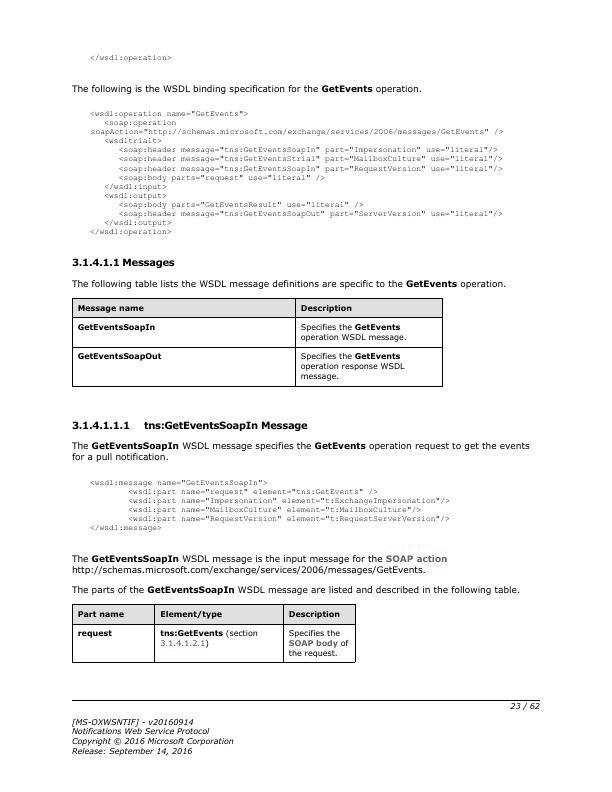table: (68, 295, 444, 389), (71, 604, 359, 666)
text: (86, 107, 510, 238), (86, 476, 456, 534), (68, 438, 533, 465), (67, 551, 450, 579), (67, 715, 241, 759), (68, 584, 524, 600), (68, 278, 510, 294), (66, 80, 424, 98), (67, 418, 308, 431), (62, 252, 181, 270), (82, 50, 176, 67)
